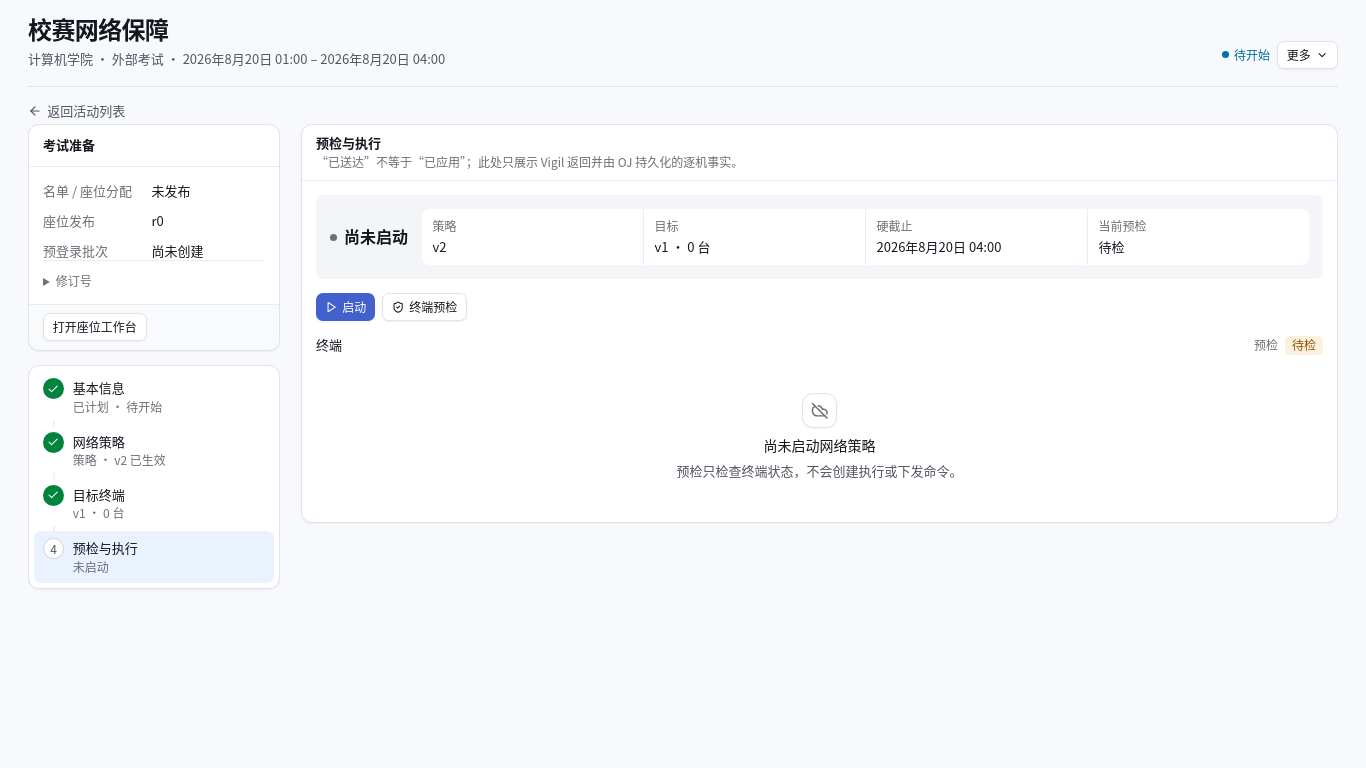
Scenario: exam event detail shell › 更多菜单可以确认归档并提交当前版本
Expected: the heading "预检与执行" is shown, [316,133,381,152]
Click the button "更多".
click(1308, 55)  # box [1277,41,1338,69]
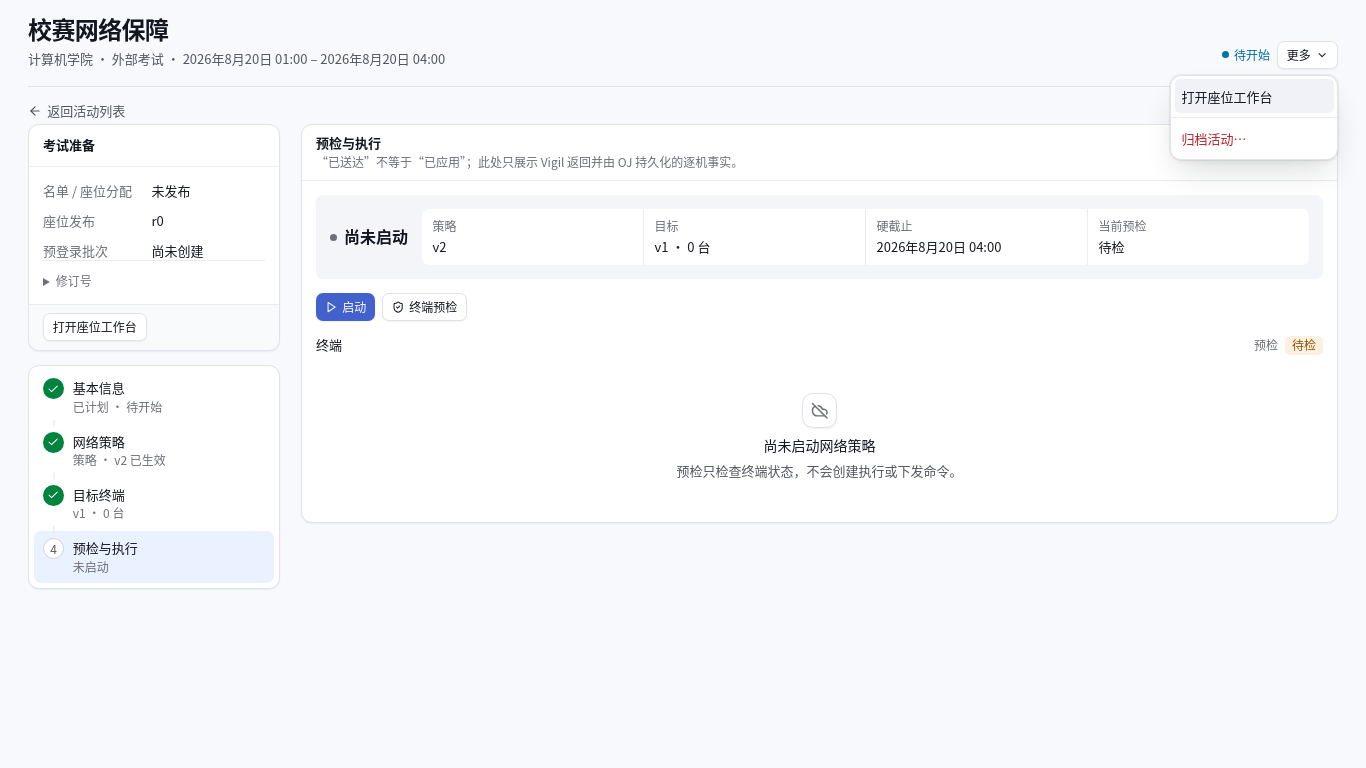
Click the menu item "归档活动…".
click(1254, 138)  # box [1174,121,1334,155]
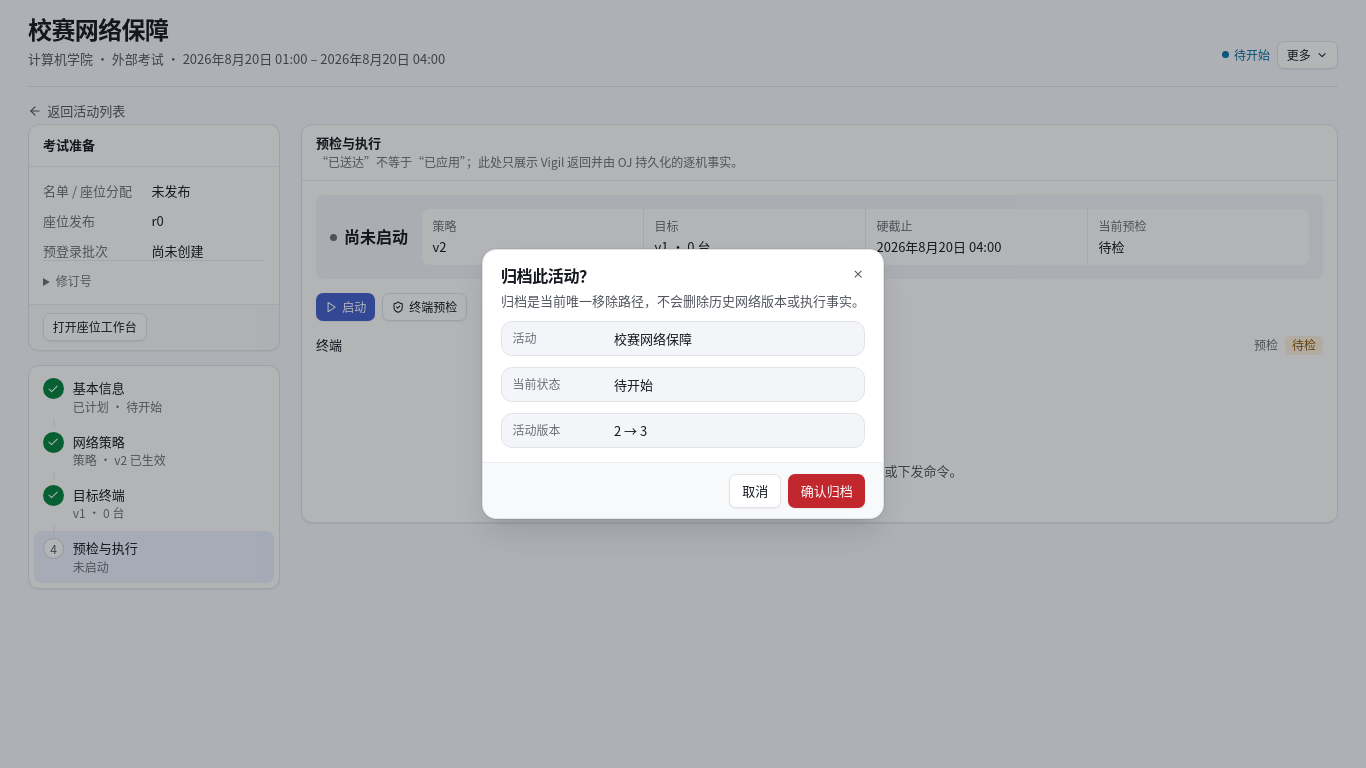
Expected: the dialog "归档此活动？" shows "归档是当前唯一移除路径，不会删除历史网络版本或执行事实。", [501,291,865,310]
Expected: the text "校赛网络保障" is shown, [614,329,692,348]
Expected: the text "待开始" is shown, [614,375,653,394]
Click the button "确认归档".
click(827, 491)  # box [788,474,865,508]
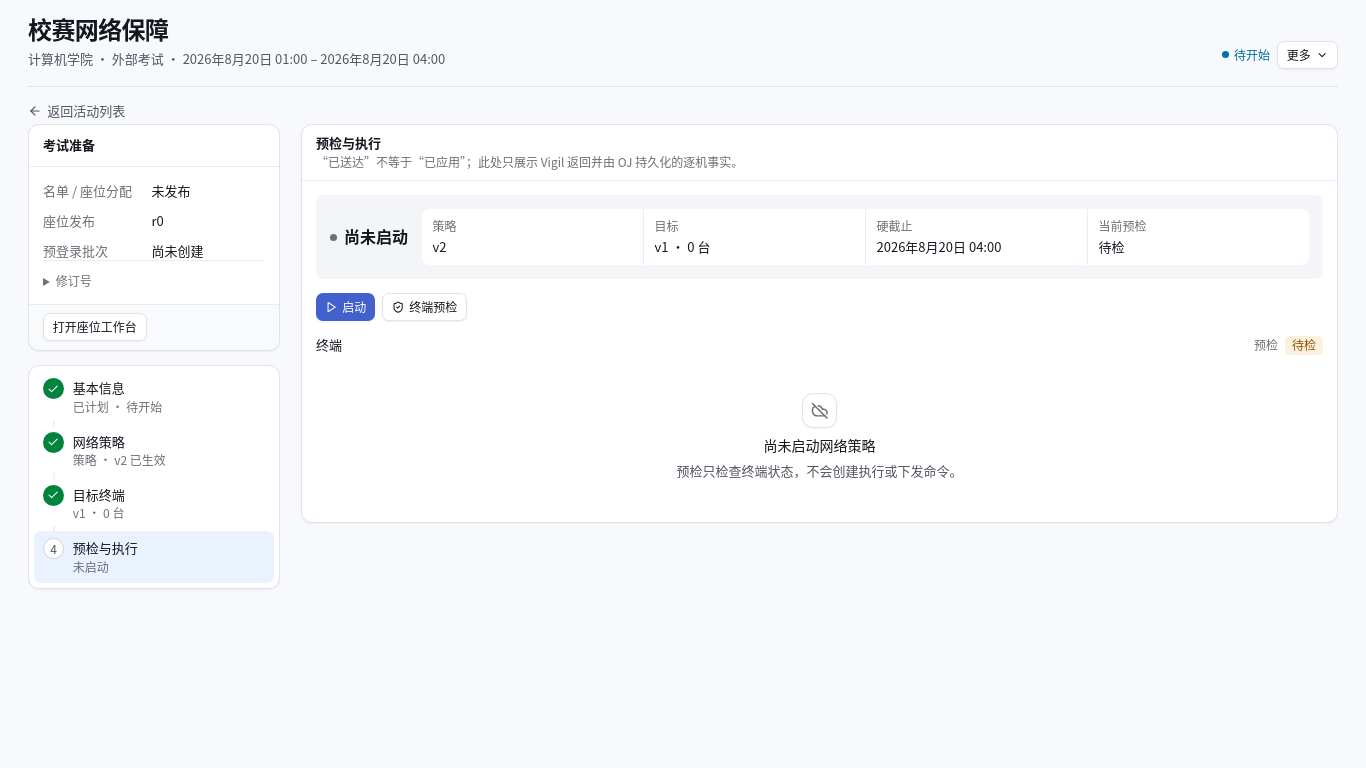
Expected: the heading "归档此活动？" is gone
